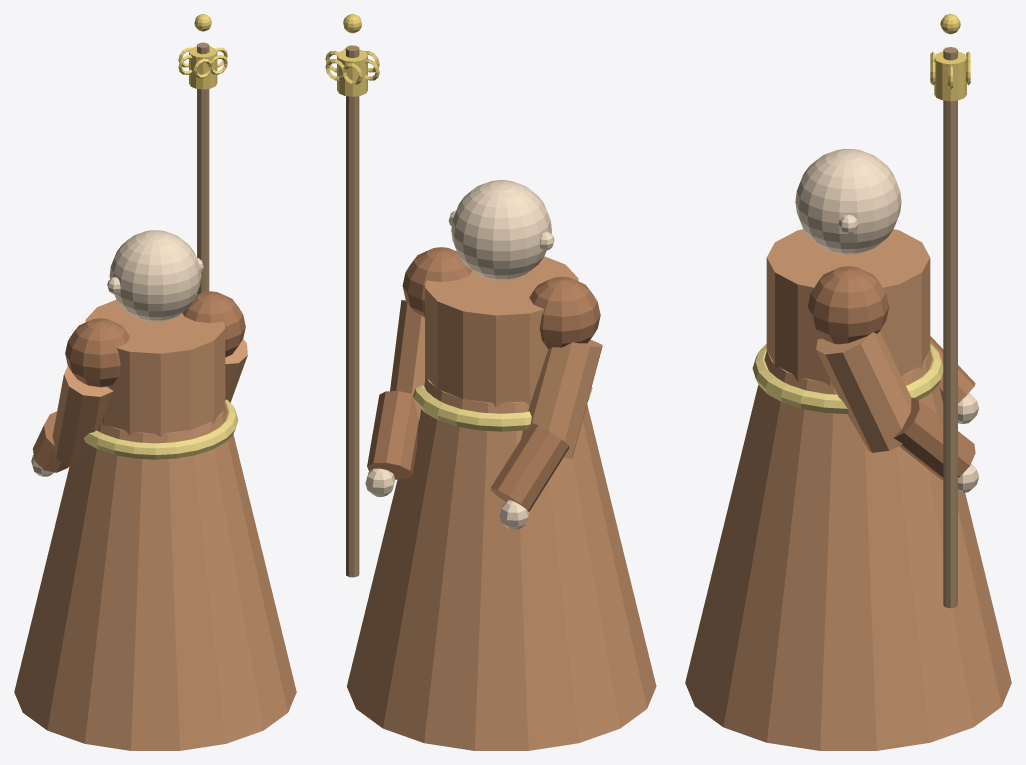
Rendered from monk_w_staff.glb.
The picture shows the model from 3 angles, left to right: view 1: azimuth 30°, elevation 25°; view 2: azimuth 150°, elevation 25°; view 3: azimuth 270°, elevation 25°; orthographic projection. The views are drawn at different scales.
Visible parts, largest first — view 1: monk_w_staff; view 2: monk_w_staff; view 3: monk_w_staff.
Boxes of the visible parts, x1,y1,x2,y2 form: monk_w_staff: (14,14,296,750); monk_w_staff: (325,14,656,750); monk_w_staff: (685,14,1011,750).
Size of the model in its own units: 0.7878 by 1.94 by 0.8.
